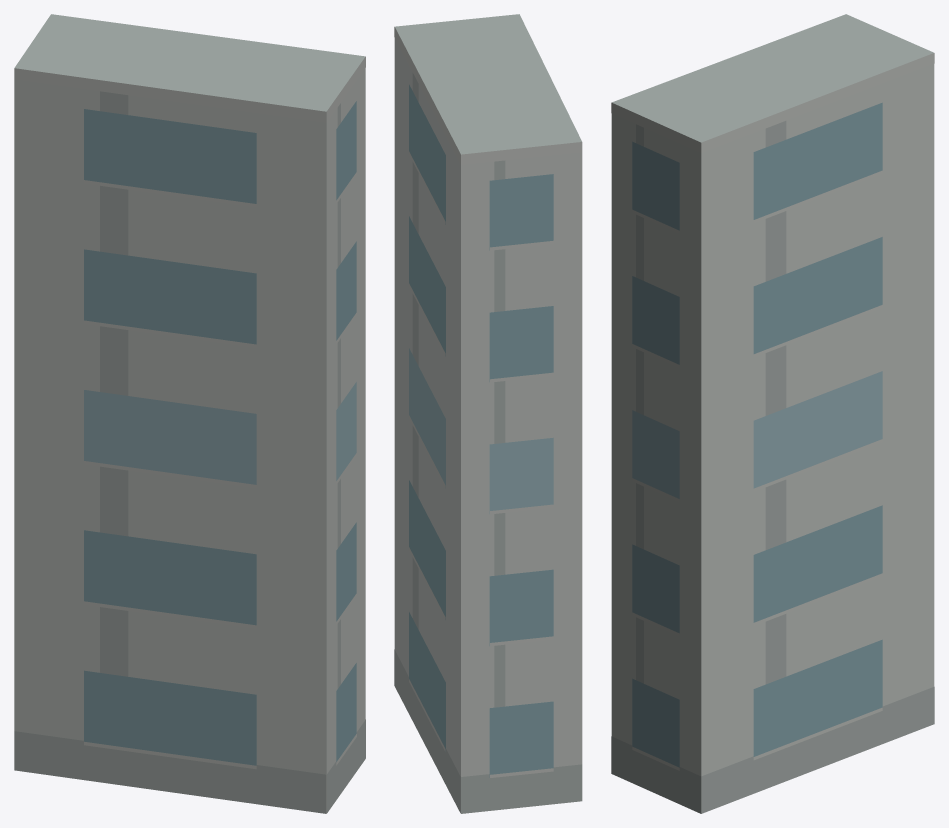
The model's file is survey-upis-32667137.glb.
The picture shows the model from 3 angles, left to right: view 1: azimuth 30°, elevation 25°; view 2: azimuth 150°, elevation 25°; view 3: azimuth 270°, elevation 25°; orthographic projection. The views are drawn at different scales.
Parts seen in each view (by area): view 1: survey-upis-32667137.tmp; view 2: survey-upis-32667137.tmp; view 3: survey-upis-32667137.tmp.
Boxes of the visible parts, x1,y1,x2,y2 form: survey-upis-32667137.tmp: (14, 14, 365, 813); survey-upis-32667137.tmp: (394, 14, 582, 813); survey-upis-32667137.tmp: (611, 14, 934, 813).
Size of the model in its own units: 6.27 by 15.25 by 6.66.
